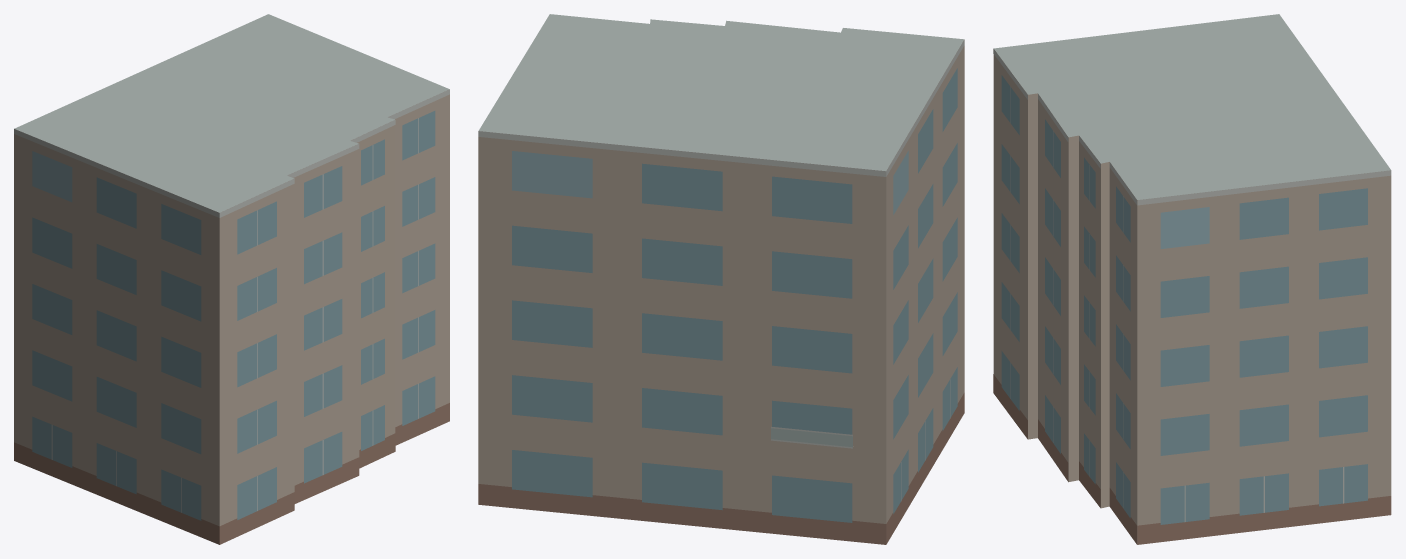
The model's file is survey-upis-32891839.glb.
3 views of the same model, side by side, from view 1: azimuth 30°, elevation 25°; view 2: azimuth 150°, elevation 25°; view 3: azimuth 270°, elevation 25° (orthographic). The views are drawn at different scales.
Visible parts, largest first — view 1: survey-upis-32891839.tmp; view 2: survey-upis-32891839.tmp; view 3: survey-upis-32891839.tmp.
Boxes of the visible parts, x1,y1,x2,y2 form: survey-upis-32891839.tmp: [14, 14, 449, 544]; survey-upis-32891839.tmp: [478, 14, 964, 544]; survey-upis-32891839.tmp: [993, 14, 1391, 544].
Size of the model in its own units: 18.07 by 15.6 by 16.32.
